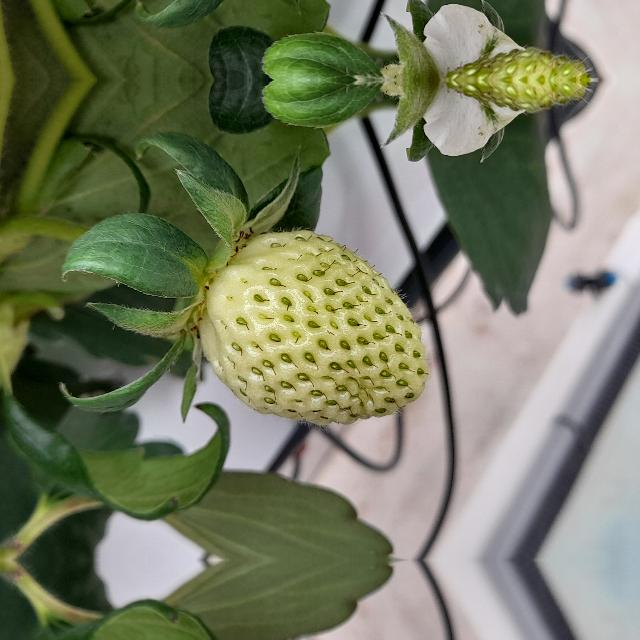Health_25: (198, 230, 428, 424)
